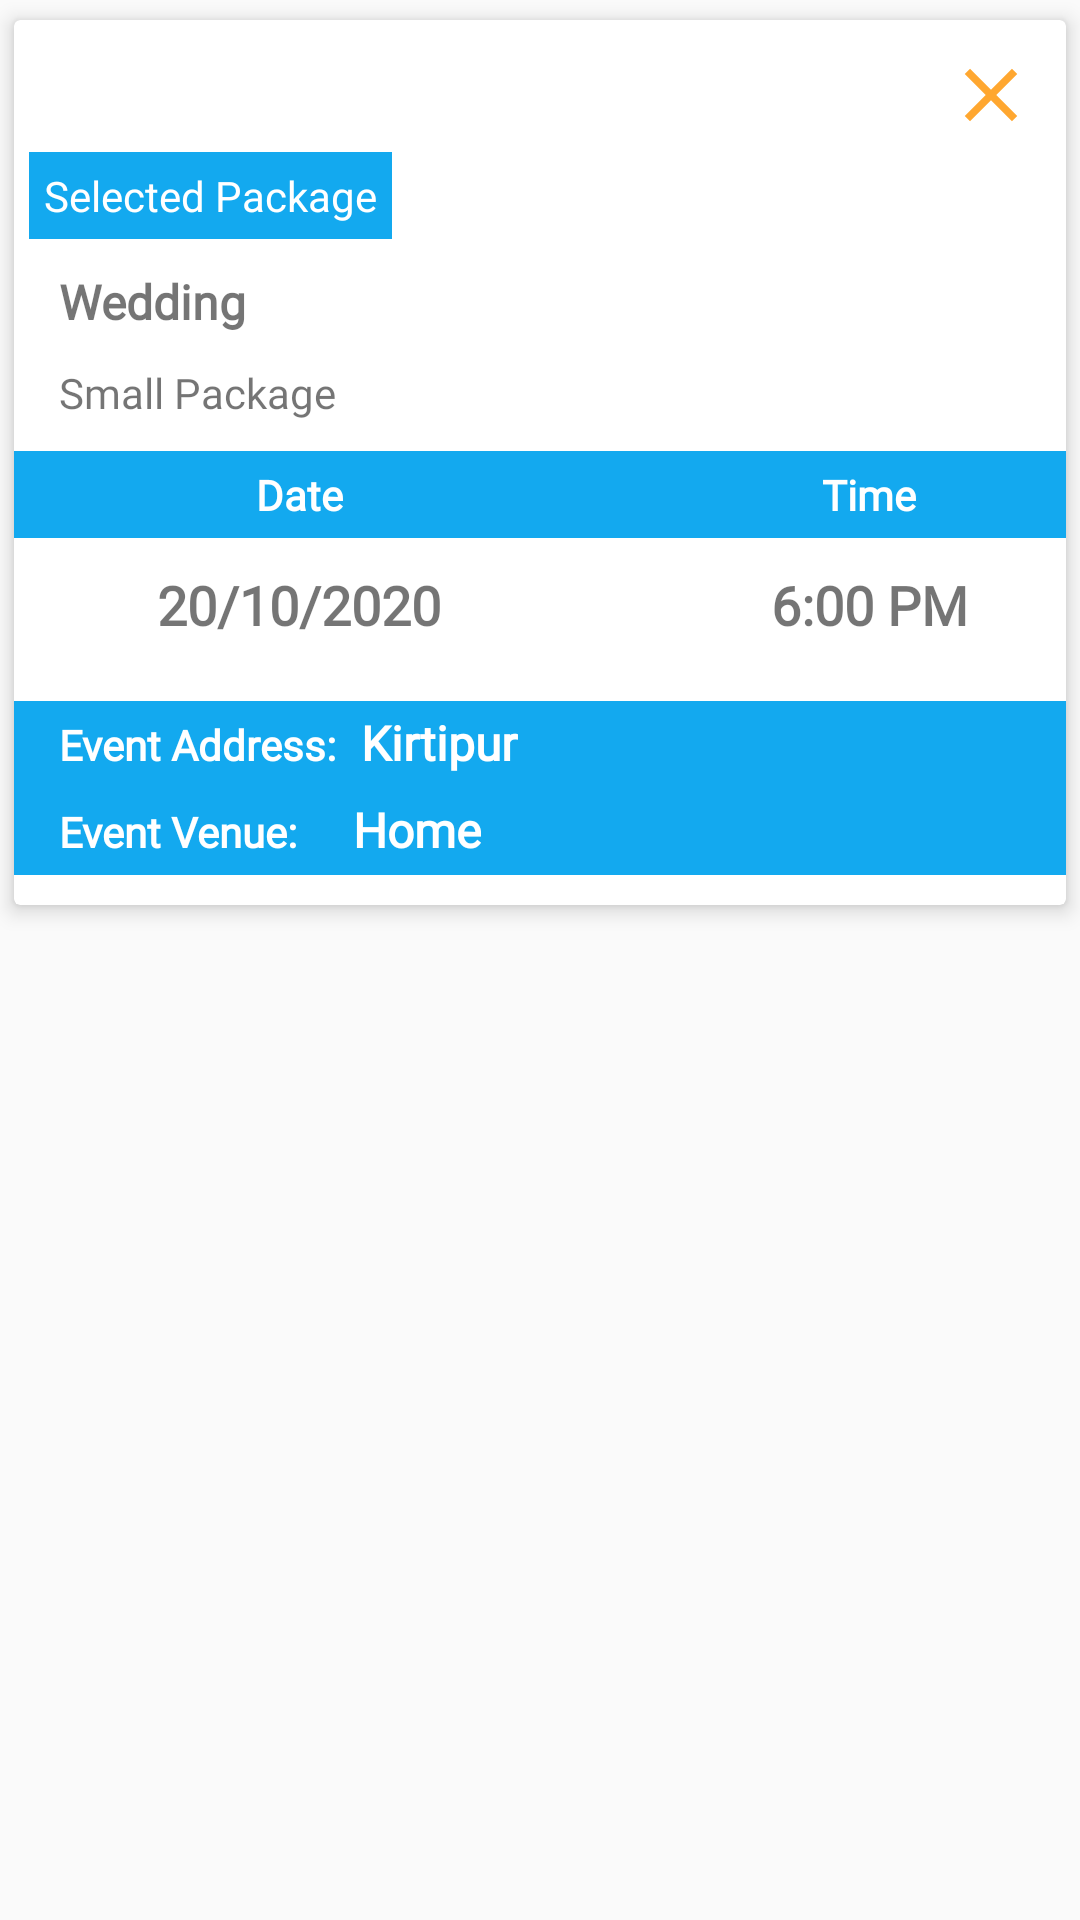

Screen size 1080 x 1920. Icon name, then its box in pixels as (x1, y1, x2, y2):
close: (965, 69, 1017, 121)
